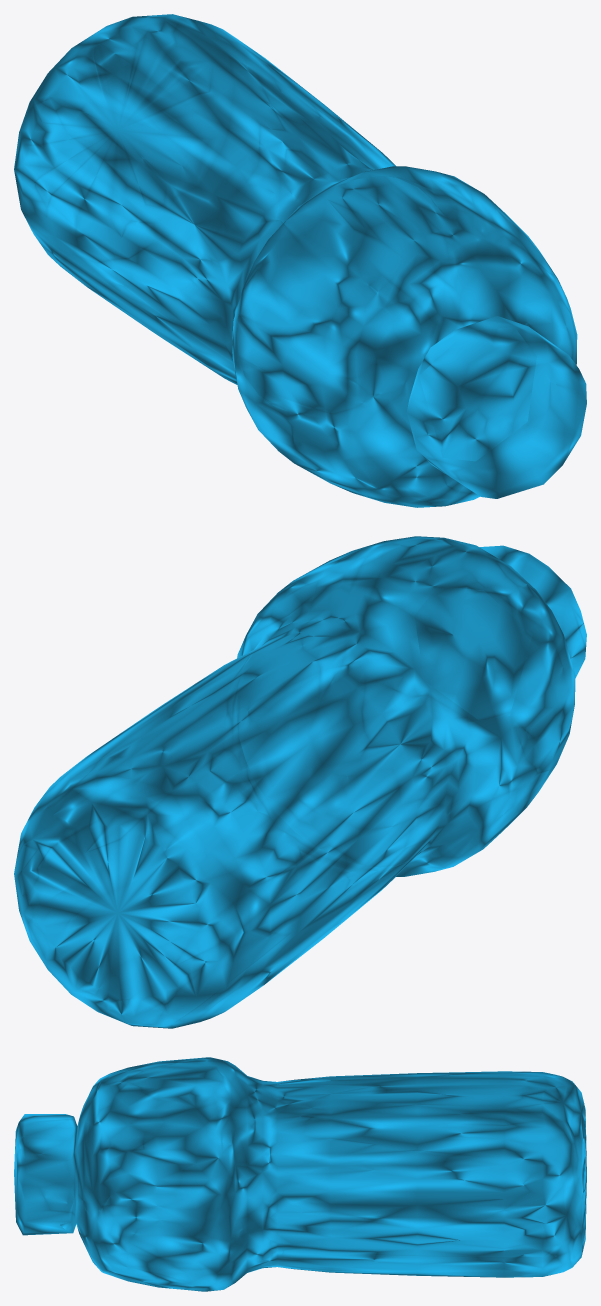
File: model_align.obj
The picture shows the model from 3 angles, top to bottom: view 1: azimuth 30°, elevation 25°; view 2: azimuth 150°, elevation 25°; view 3: azimuth 270°, elevation 25°; orthographic projection. The views are drawn at different scales.
Size of the model in its own units: 0.0987 by 0.0987 by 0.2424.
